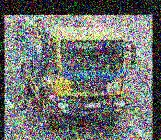truck: (17, 23, 136, 127)
